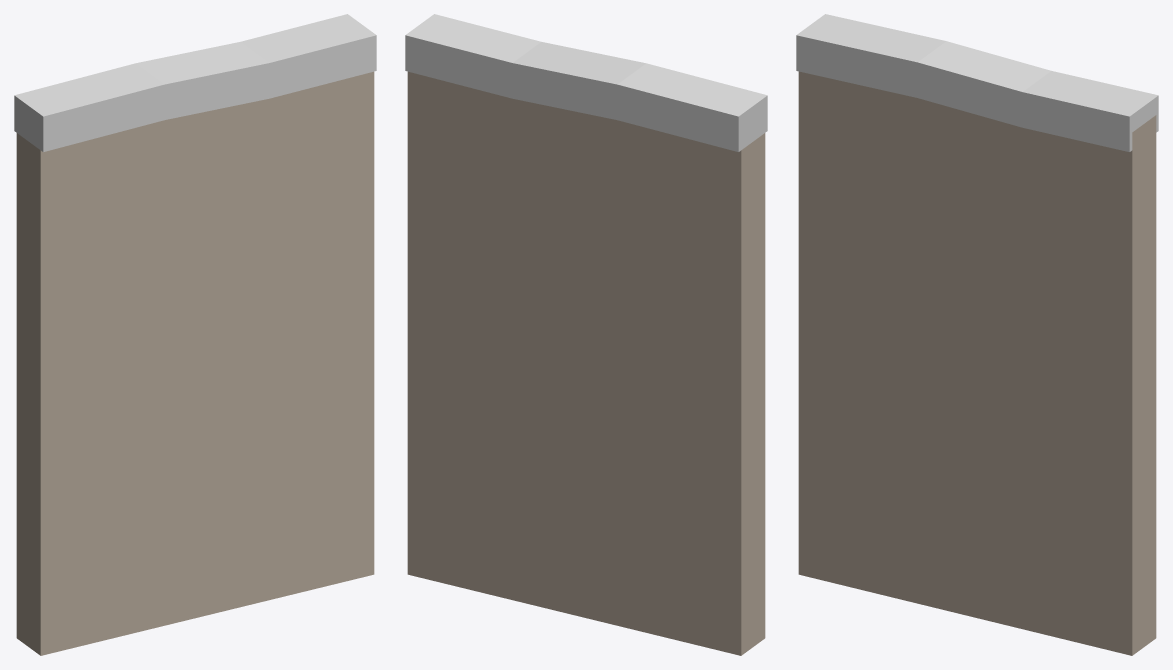
The model's file is Wall_1.fbx.
The picture shows the model from 3 angles, left to right: view 1: azimuth 30°, elevation 25°; view 2: azimuth 150°, elevation 25°; view 3: azimuth 330°, elevation 25°; orthographic projection.
Visible parts, largest first — view 1: Wall_1_LOD0; view 2: Wall_1_LOD0; view 3: Wall_1_LOD0.
Part boxes in pixels (bbox=[...]): Wall_1_LOD0: bbox=[14, 14, 376, 655]; Wall_1_LOD0: bbox=[405, 14, 767, 655]; Wall_1_LOD0: bbox=[796, 14, 1158, 655].
Size of what is drawn, in the model's own units: 200 by 312 by 30.18.
